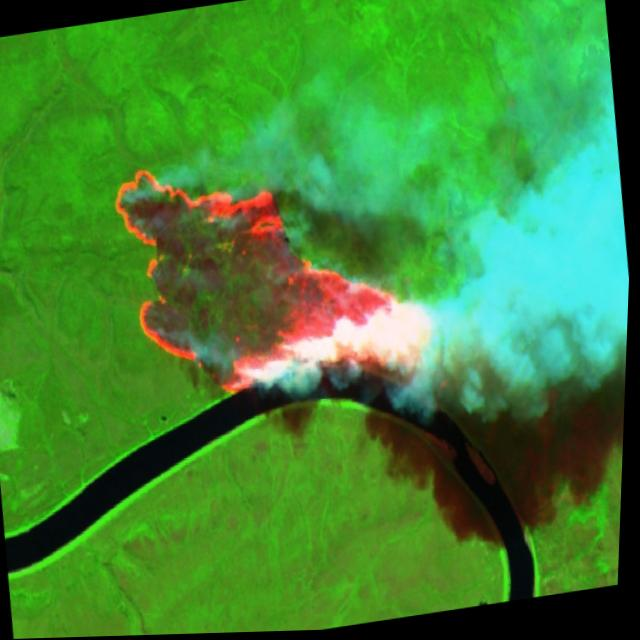fire: (101, 116, 467, 414)
